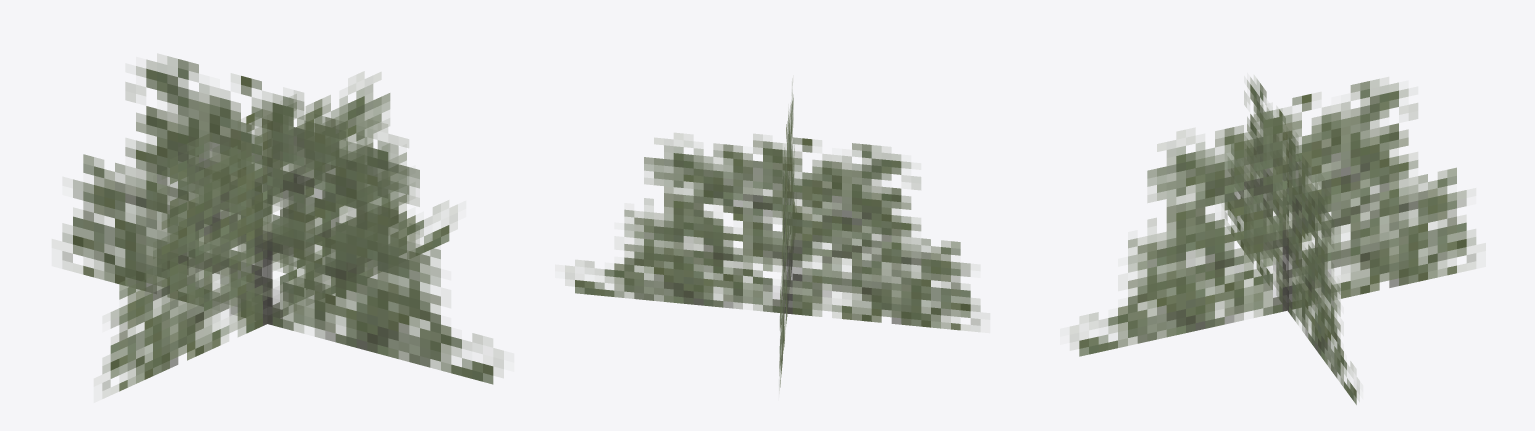
File: tree-shrub.006_lev3.glb
3 renders of one model, left to right at view 1: azimuth 30°, elevation 25°; view 2: azimuth 150°, elevation 25°; view 3: azimuth 270°, elevation 25°, orthographic. The views are drawn at different scales.
Visible parts, largest first — view 1: tree-shrub.006_lev3; view 2: tree-shrub.006_lev3; view 3: tree-shrub.006_lev3.
Part boxes in pixels (x1,y1,x2,y2): tree-shrub.006_lev3: (62,54,503,397); tree-shrub.006_lev3: (565,81,980,390); tree-shrub.006_lev3: (1070,76,1476,404).
Bounding box in the file's own units: 6.7 × 3.11 × 6.22.
1 material, 1 textured.
